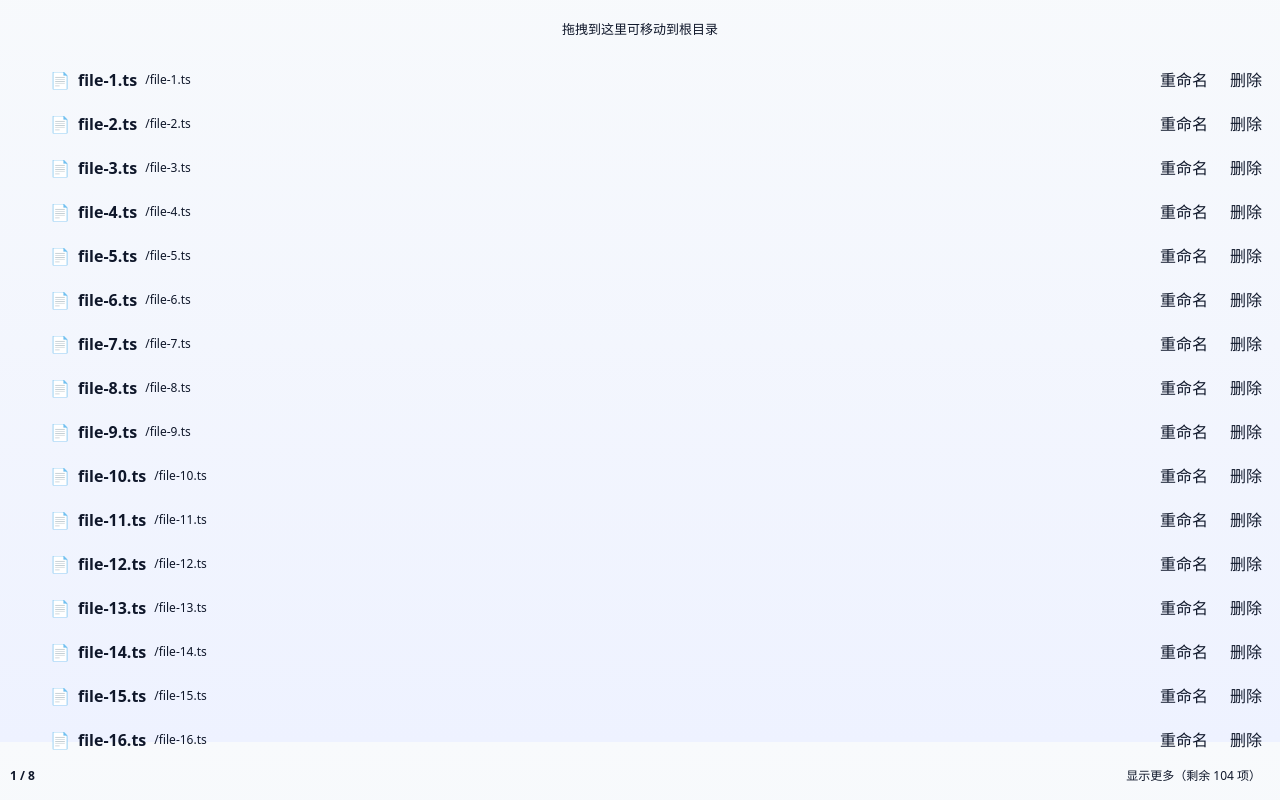
Test: FileTree › shows files in progressive segments and advances on show-more
This screenshot has width=1280, height=800.
(page scrolled)
Expected: the text with test id "rows-segment-indicator" shows "1 /", [10,766,35,784]
Click the button with test id "show-more-rows" at (1194, 776), box [1117,762,1270,790]
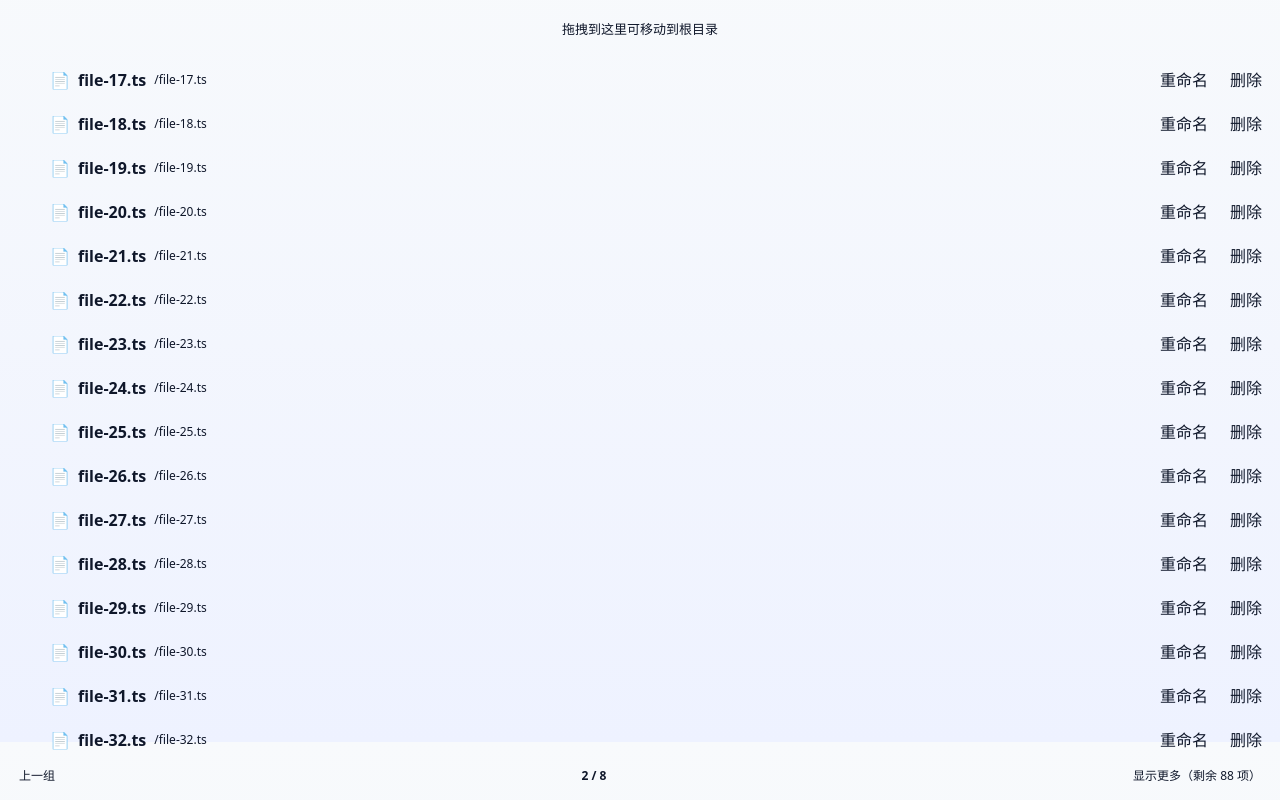
Expected: the text with test id "rows-segment-indicator" shows "2 /", [582,766,606,784]
